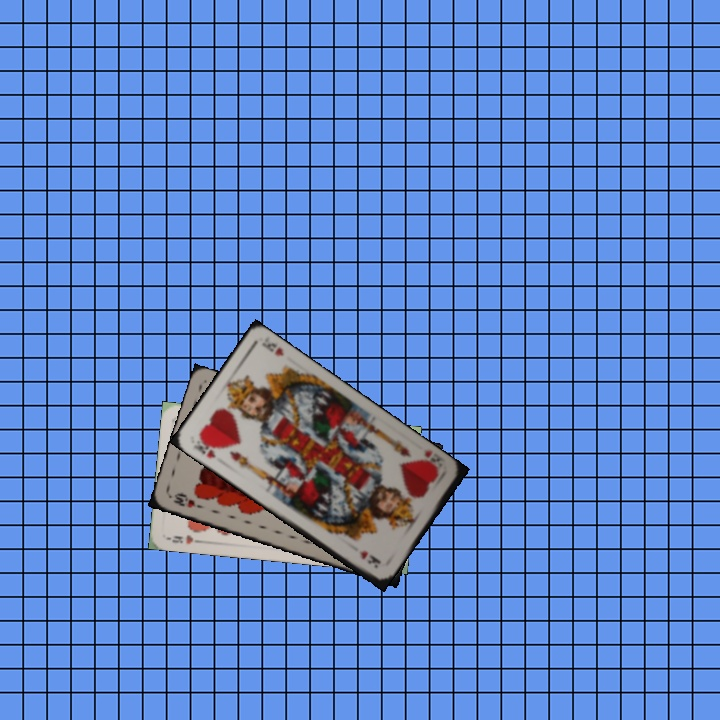H10: (169, 489, 206, 511)
H9: (168, 531, 204, 546)
HK: (416, 446, 443, 476), (189, 434, 218, 461)
